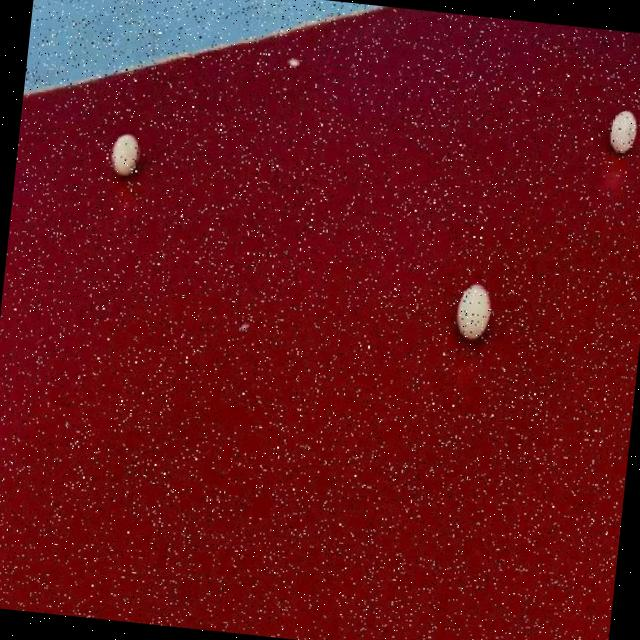ping-pong-ball: (449, 273, 495, 348), (105, 126, 144, 182), (604, 103, 640, 157)
